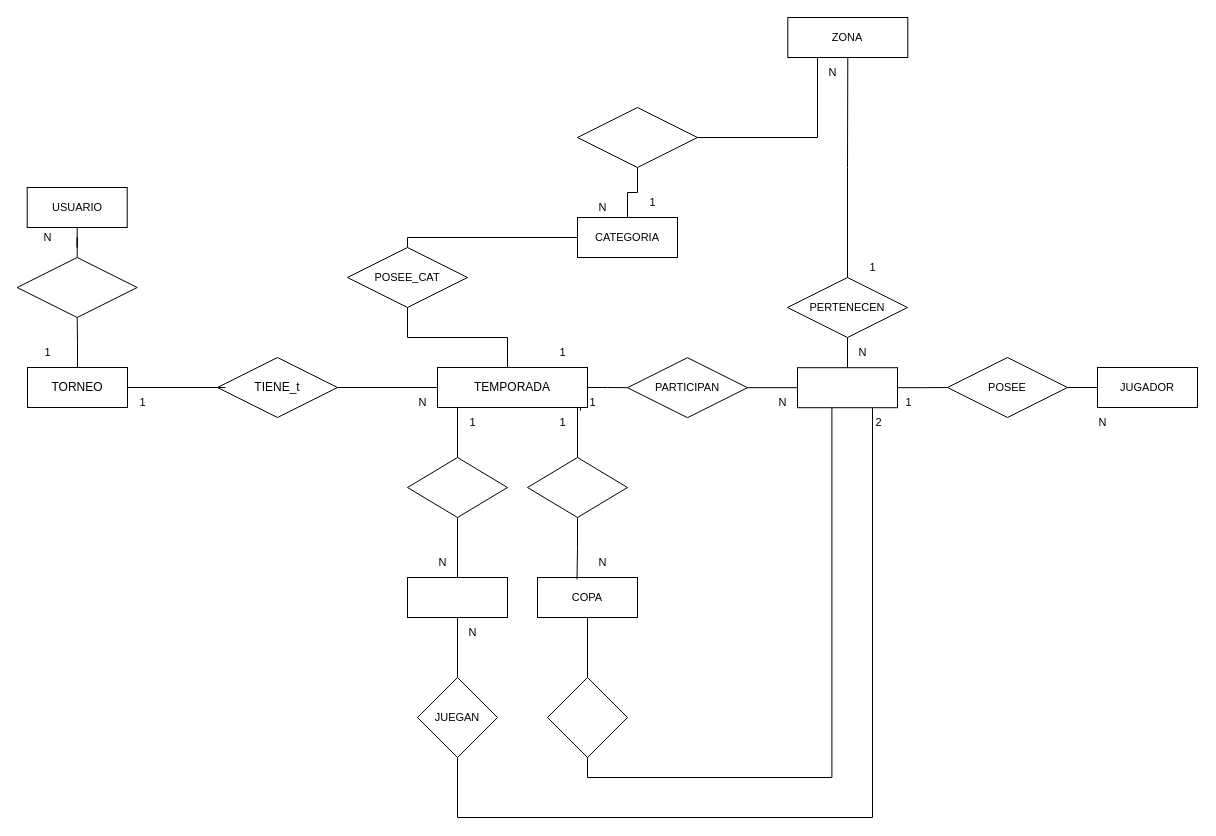
Some shapes in this 1216 by 836 pixel diagram are drawn without their labels. Each missing label, with the box of its shape:
EQUIPO: (796, 367, 898, 408)
JUEGAN_C: (546, 676, 628, 758)
PARTIDO: (406, 576, 508, 618)
PERTENECE: (16, 256, 137, 318)
TIENE_C: (526, 456, 628, 518)
TIENE_CAT: (576, 106, 698, 168)
TIENE_P: (406, 456, 508, 518)
